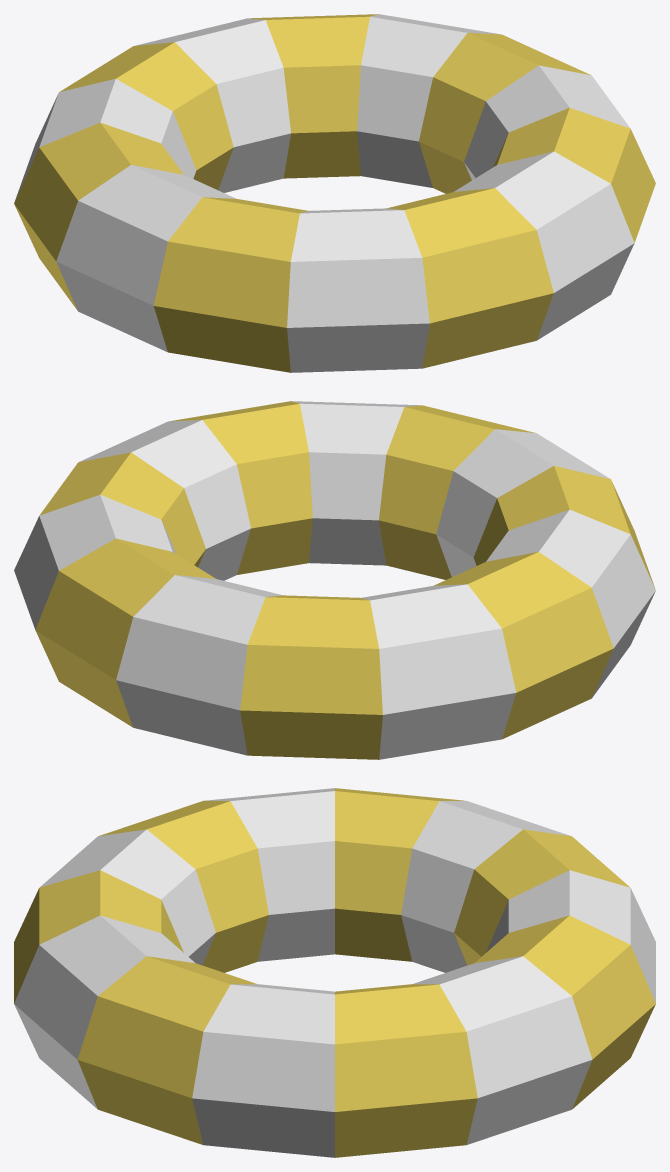
Rendered from Floater 1.fbx.
The picture shows the model from 3 angles, top to bottom: view 1: azimuth 30°, elevation 25°; view 2: azimuth 150°, elevation 25°; view 3: azimuth 270°, elevation 25°; orthographic projection. The views are drawn at different scales.
Visible parts, largest first — view 1: Floater.001; view 2: Floater.001; view 3: Floater.001.
Part boxes in pixels (x1,y1,x2,y2): Floater.001: [14, 14, 655, 372]; Floater.001: [14, 401, 655, 759]; Floater.001: [14, 788, 655, 1157].
Size of the model in its own units: 320 by 86 by 312.
